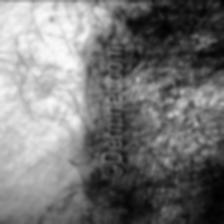Toxin: (128, 0, 224, 224)
